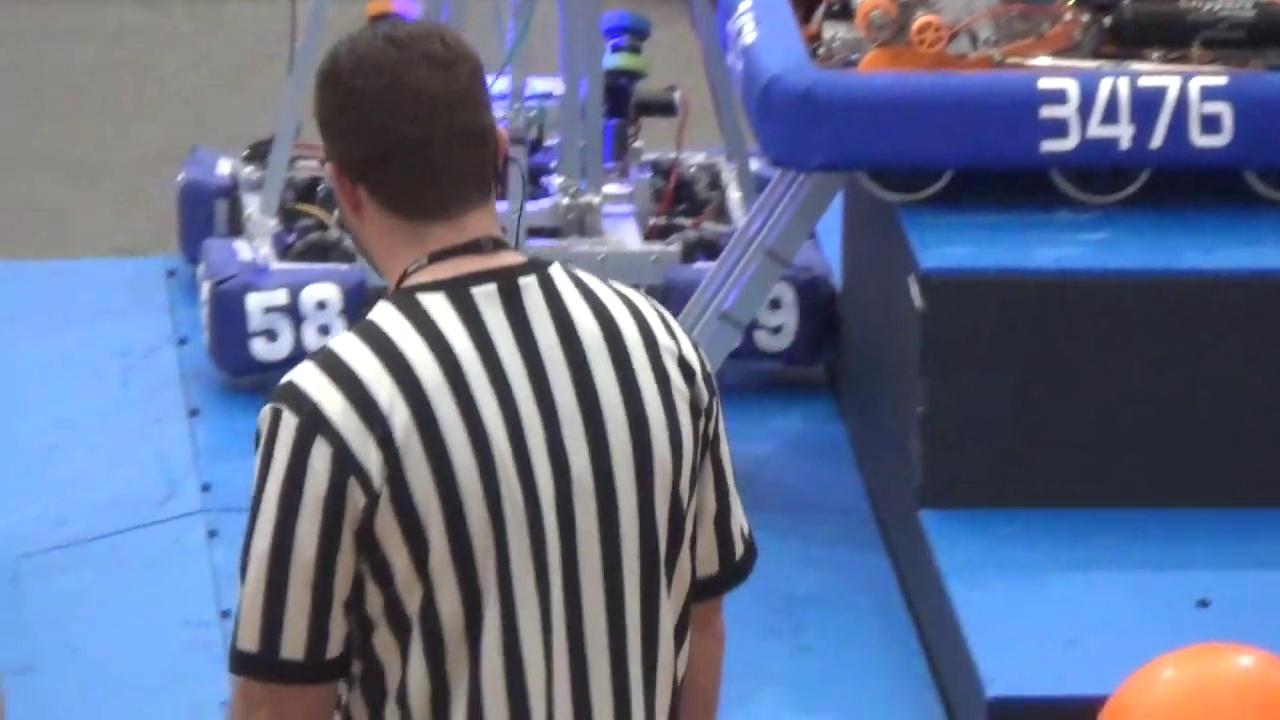robot: (165, 0, 819, 382)
